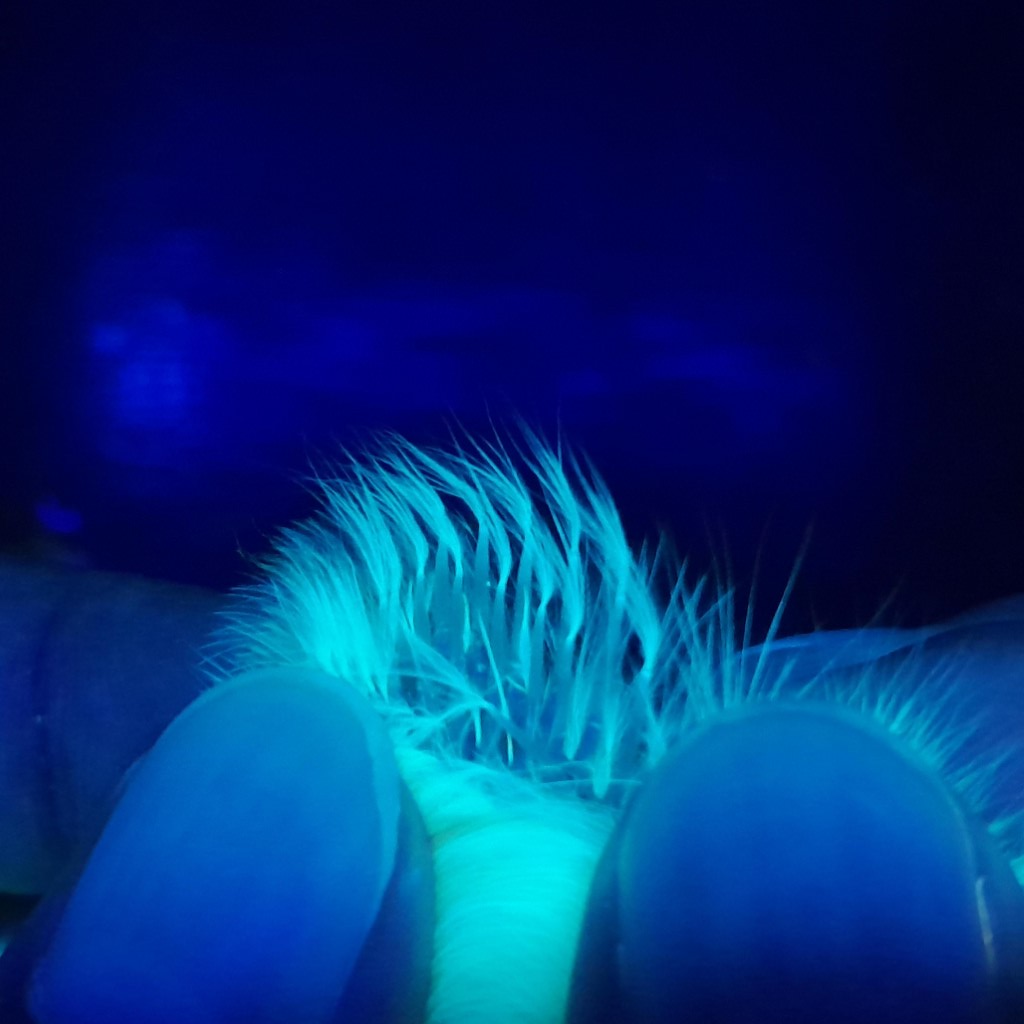female: (364, 513, 683, 850)
